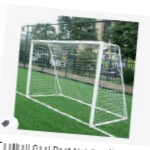goals: (25, 38, 128, 128)
